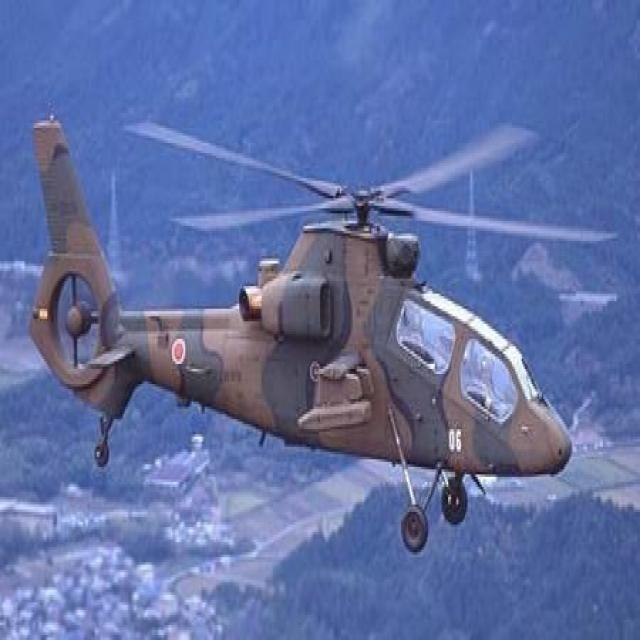MIL_HELO: (12, 76, 624, 568)
